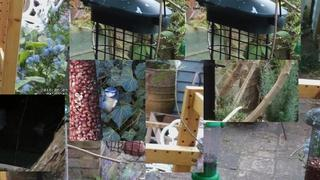blue tit: (96, 86, 119, 120)
